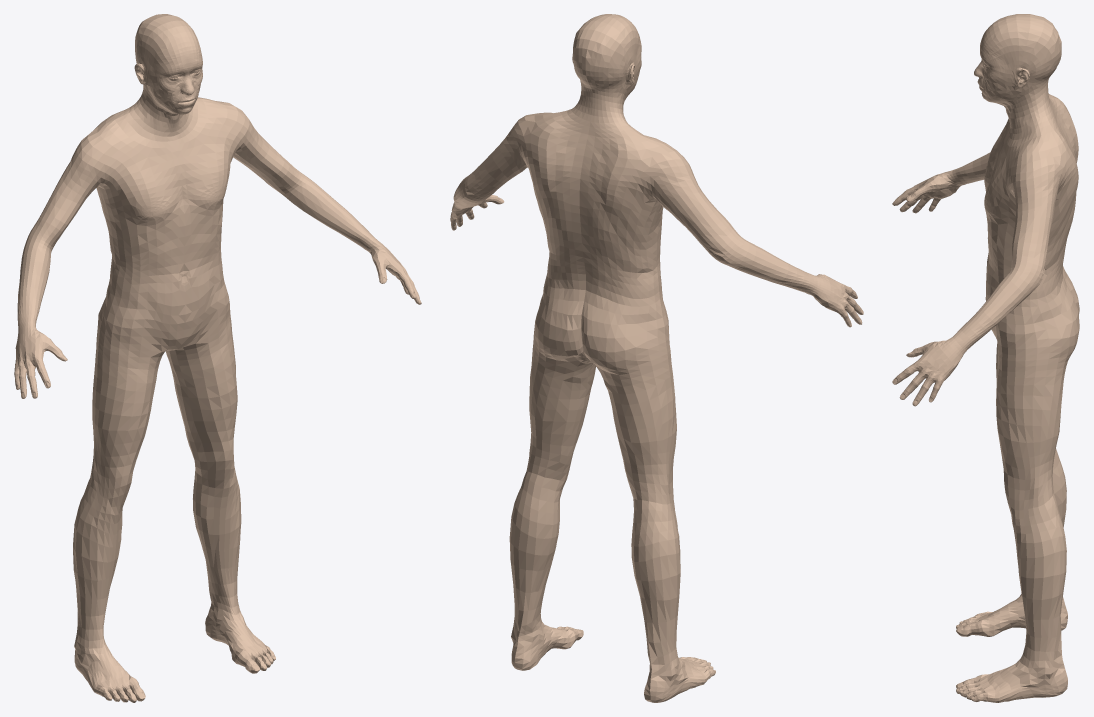
File: male-mature-fit-medium.glb
3 renders of one model, left to right at view 1: azimuth 30°, elevation 25°; view 2: azimuth 150°, elevation 25°; view 3: azimuth 270°, elevation 25°, orthographic.
Visible parts, largest first — view 1: world; view 2: world; view 3: world.
Boxes of the visible parts, <box> form: world: <box>14,14,421,702</box>; world: <box>450,14,863,702</box>; world: <box>892,14,1079,702</box>.
Bounding box in the file's own units: 1.25 × 1.94 × 0.5089.
